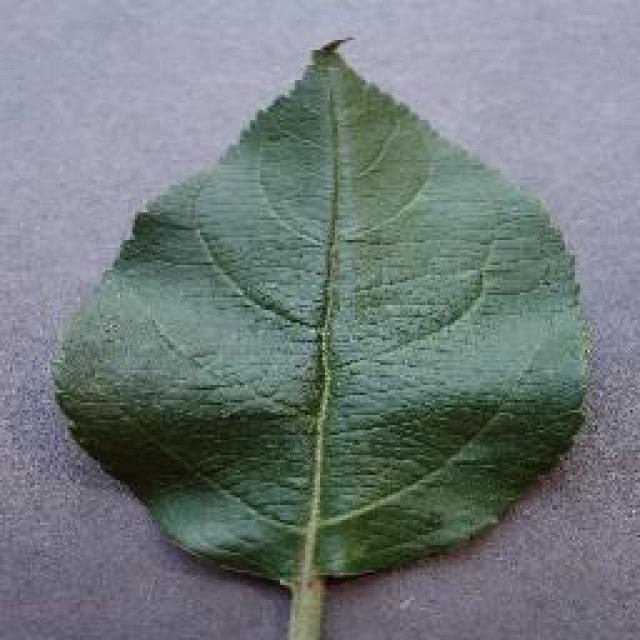apple healthy: (47, 32, 595, 638)
